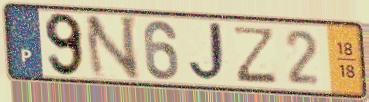2: (284, 28, 323, 88)
6: (141, 18, 181, 82)
9: (42, 11, 88, 78)
J: (187, 20, 233, 85)
N: (82, 14, 142, 83)
Z: (234, 24, 279, 85)
